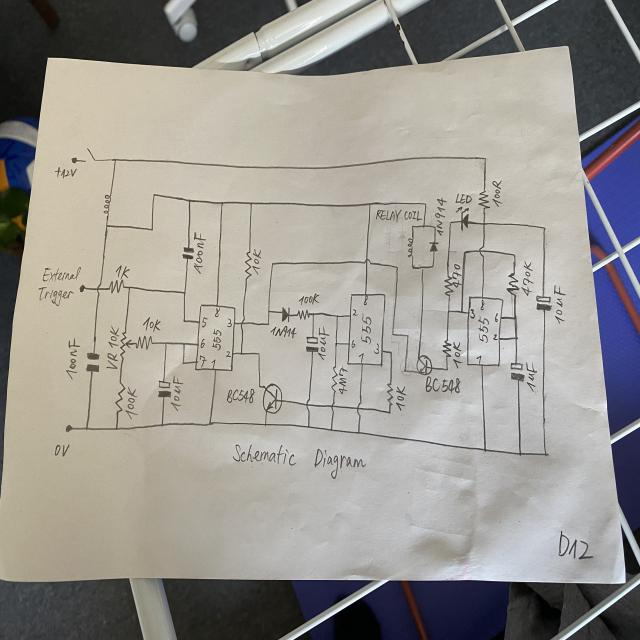capacitor: (84, 349, 102, 374), (534, 292, 554, 312), (509, 361, 525, 383), (156, 379, 172, 399), (304, 334, 320, 354), (180, 244, 195, 260)
crossover: (477, 245, 487, 258), (356, 401, 363, 417), (240, 314, 246, 332), (95, 282, 102, 295), (305, 397, 311, 412), (363, 257, 372, 266), (330, 401, 336, 413)
diode: (454, 206, 470, 232), (428, 238, 440, 254), (281, 305, 291, 323)
inductor: (102, 193, 113, 215), (406, 235, 415, 259)
junction: (460, 249, 468, 257), (355, 428, 362, 436), (305, 422, 312, 430), (458, 308, 465, 315), (112, 156, 118, 164), (262, 420, 268, 428), (84, 424, 90, 432), (114, 424, 120, 432), (512, 314, 518, 322), (181, 340, 187, 348), (481, 220, 487, 228), (482, 155, 488, 162), (159, 421, 165, 428), (482, 446, 488, 453), (248, 200, 254, 207), (104, 222, 110, 229), (181, 317, 187, 324), (517, 450, 523, 457), (207, 419, 213, 426), (163, 340, 169, 347), (388, 349, 394, 356), (514, 334, 519, 342), (544, 450, 549, 458), (182, 288, 187, 296), (420, 264, 425, 272), (390, 331, 396, 337), (238, 350, 244, 356), (187, 197, 192, 204), (256, 350, 261, 357), (387, 409, 392, 416), (270, 261, 275, 267), (405, 333, 410, 339), (430, 263, 435, 269), (446, 308, 451, 314), (367, 201, 372, 207), (181, 360, 186, 366), (444, 367, 450, 372), (411, 264, 416, 270), (421, 223, 426, 229), (150, 226, 154, 233), (220, 200, 224, 207), (395, 264, 399, 271), (334, 341, 339, 346), (127, 285, 132, 290), (448, 220, 453, 225), (152, 192, 156, 198), (542, 225, 546, 231), (512, 252, 516, 258), (423, 201, 427, 207), (311, 311, 315, 317), (403, 368, 407, 373), (266, 321, 270, 326), (266, 309, 270, 314), (411, 224, 415, 229), (335, 314, 339, 318), (329, 427, 333, 431), (433, 224, 436, 229), (258, 384, 261, 388)
resistor: (113, 381, 126, 417), (505, 269, 520, 299), (119, 330, 132, 360), (242, 248, 252, 280), (135, 334, 153, 351), (477, 189, 491, 210), (108, 278, 124, 294), (444, 274, 454, 296), (386, 381, 394, 407), (442, 339, 452, 358), (331, 365, 338, 392), (296, 308, 311, 320)
switch: (84, 147, 95, 163)
terminal: (64, 423, 73, 433), (78, 284, 86, 293), (71, 156, 78, 164)
text: (232, 442, 371, 482), (423, 373, 463, 395), (37, 285, 74, 307), (64, 336, 82, 380), (42, 265, 81, 283), (375, 208, 419, 222), (124, 384, 140, 420), (434, 196, 447, 237), (170, 374, 184, 412), (194, 231, 206, 275), (225, 388, 256, 404), (554, 285, 566, 325), (317, 326, 330, 360), (521, 260, 533, 296), (360, 312, 372, 346), (526, 360, 538, 393), (251, 248, 264, 278), (270, 325, 296, 339), (54, 165, 78, 180), (478, 314, 490, 344), (338, 364, 349, 396), (491, 179, 502, 207), (452, 341, 463, 369), (142, 317, 162, 332), (108, 324, 120, 348), (53, 442, 71, 458), (298, 292, 320, 305), (396, 385, 406, 412), (115, 264, 131, 280), (211, 328, 222, 351), (105, 351, 118, 370), (451, 263, 461, 287), (455, 192, 472, 205), (199, 355, 207, 368), (373, 342, 380, 355), (214, 306, 221, 318), (201, 317, 208, 328), (480, 299, 486, 311), (358, 352, 364, 363), (226, 318, 232, 328), (476, 354, 482, 364), (200, 338, 205, 349), (363, 295, 368, 306), (470, 308, 475, 319), (494, 312, 499, 323), (211, 359, 216, 369), (351, 338, 356, 348), (226, 350, 232, 358), (352, 308, 358, 316), (492, 333, 498, 341)
transistor: (262, 382, 282, 414), (416, 354, 433, 376)
